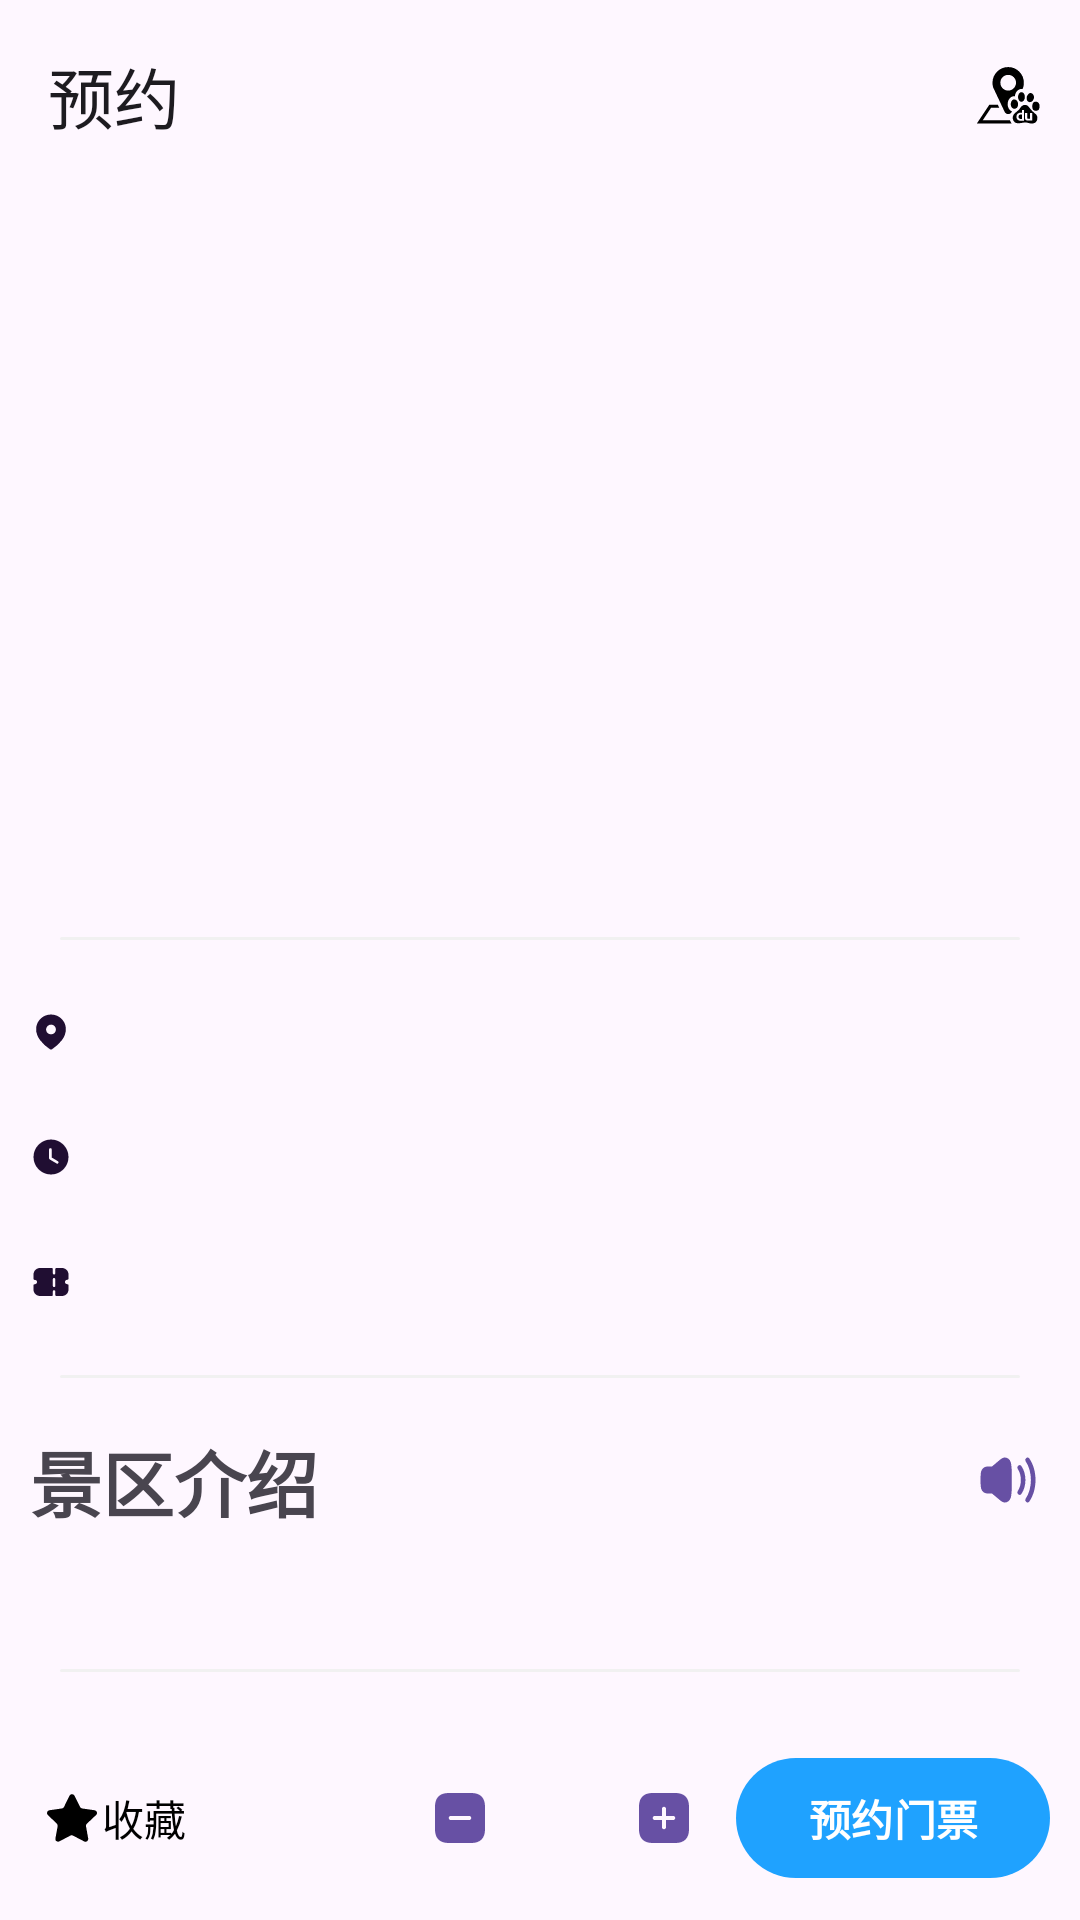

Point at icon controls on the screen. Image size 1080 x 1920, points as (x=x, y=y).
minus: (x=460, y=1818)
plus: (x=664, y=1818)
sound on: (x=1008, y=1480)
